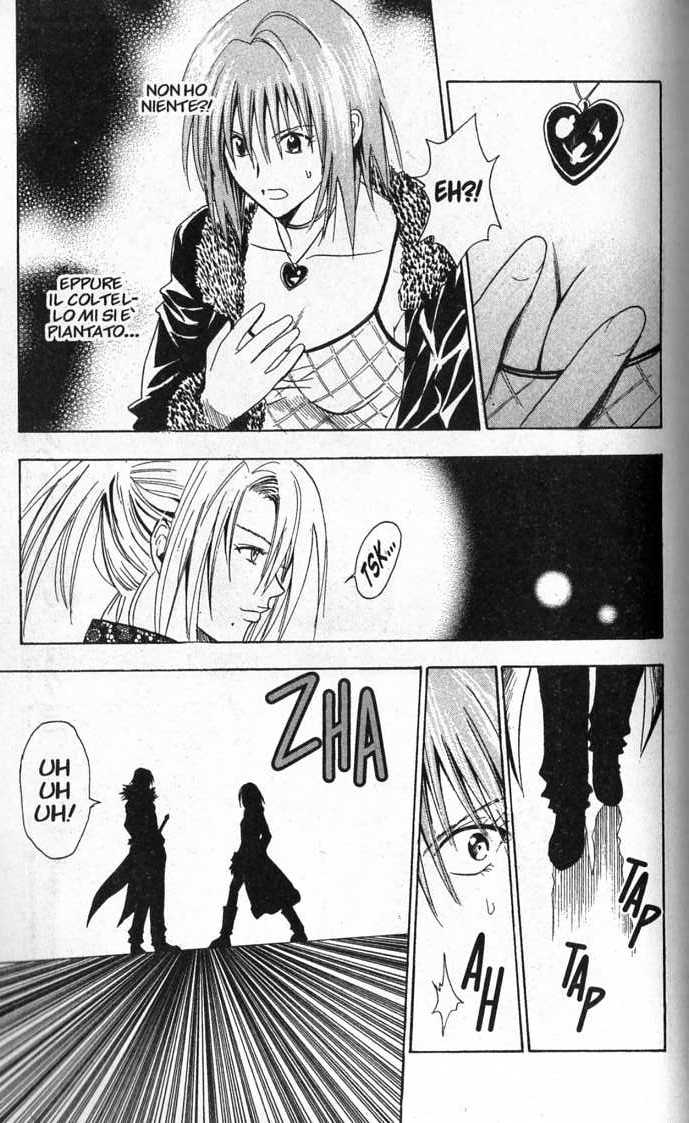Baloon: (414, 118, 504, 274), (19, 719, 107, 868), (43, 271, 148, 349), (335, 521, 412, 600), (143, 71, 214, 118)
Vignetta: (14, 1, 477, 428), (1, 669, 423, 1121), (19, 452, 666, 645), (443, 76, 662, 433), (498, 664, 667, 1061), (412, 662, 526, 1050)
